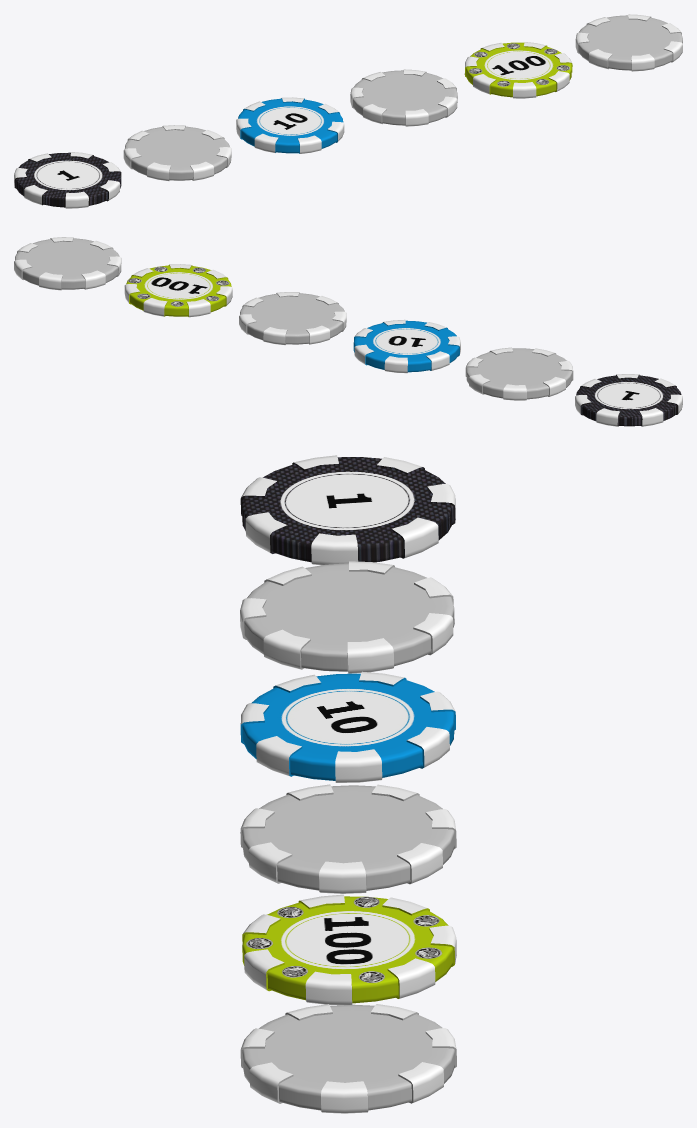
The model's file is Chips.FBX.
3 renders of one model, top to bottom at view 1: azimuth 30°, elevation 25°; view 2: azimuth 150°, elevation 25°; view 3: azimuth 270°, elevation 25°, orthographic. The views are drawn at different scales.
Visible parts, largest first — view 1: $25 chip32, $10 chip18, $100 chip57, $100 chip56, $1 chip29, $5 chip16; view 2: $100 chip56, $25 chip32, $100 chip57, $5 chip16, $10 chip18, $1 chip29; view 3: $5 chip16, $10 chip18, $100 chip56, $1 chip29, $100 chip57, $25 chip32.
Boxes of the visible parts, x1,y1,x2,y2 form: $25 chip32: (350, 69, 457, 126); $10 chip18: (236, 97, 344, 153); $100 chip57: (575, 14, 682, 71); $100 chip56: (464, 42, 572, 98); $1 chip29: (14, 152, 121, 208); $5 chip16: (123, 125, 231, 181); $100 chip56: (124, 264, 232, 317); $25 chip32: (239, 292, 346, 345); $100 chip57: (14, 237, 121, 290); $5 chip16: (465, 347, 573, 400); $10 chip18: (353, 319, 460, 373); $1 chip29: (575, 374, 682, 426); $5 chip16: (240, 561, 454, 673); $10 chip18: (240, 671, 455, 782); $100 chip56: (242, 894, 456, 1005); $1 chip29: (240, 455, 455, 565); $100 chip57: (240, 1004, 456, 1113); $25 chip32: (240, 784, 456, 893).
Size of the model in its own units: 79.67 by 1.57 by 11.44.
